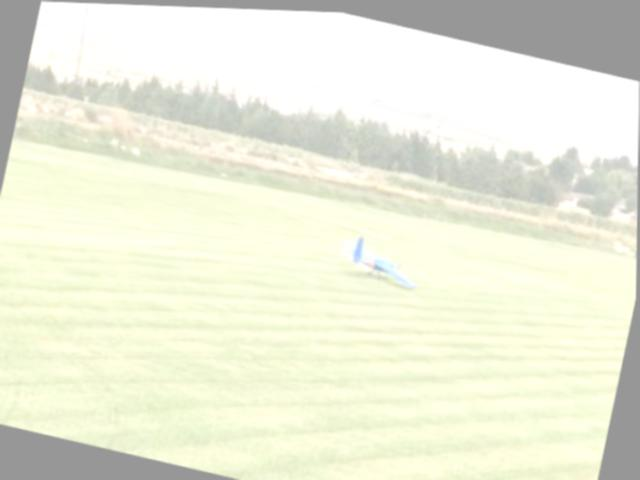uav: (330, 220, 430, 292)
